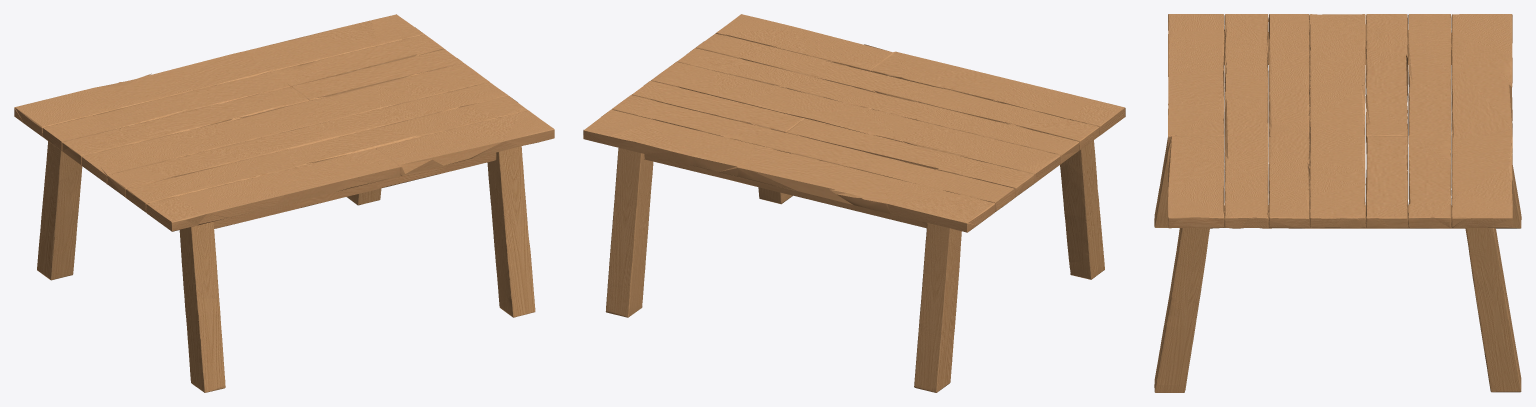
3 renders of one model, left to right at view 1: azimuth 30°, elevation 25°; view 2: azimuth 150°, elevation 25°; view 3: azimuth 270°, elevation 25°, orthographic. The views are drawn at different scales.
Size of the model in its own units: 1.9 by 0.8223 by 1.45.
Materials: 1 (1 with a texture image).
